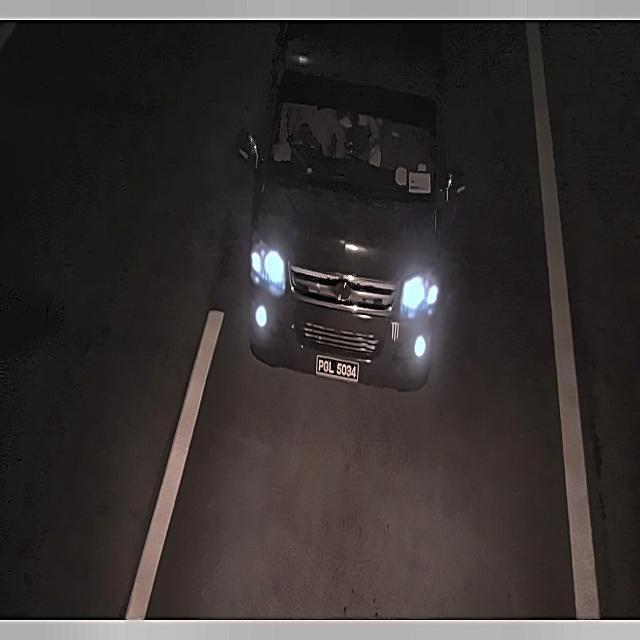car: (313, 348, 362, 388)
